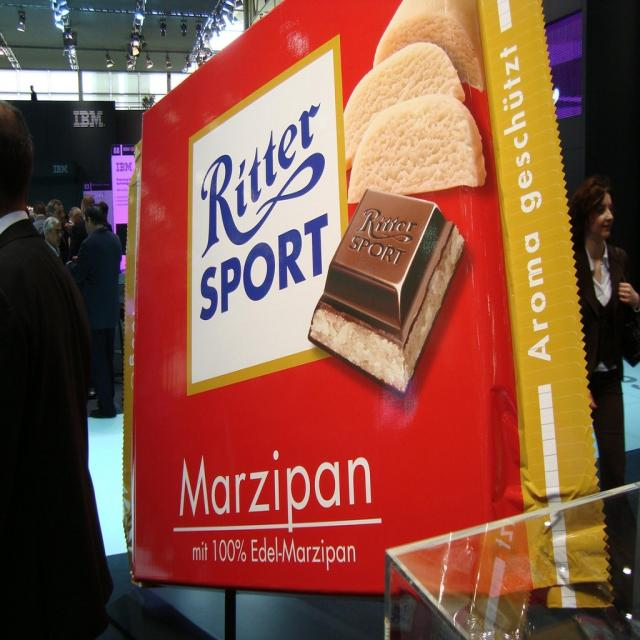rittersport: (184, 37, 359, 394)
